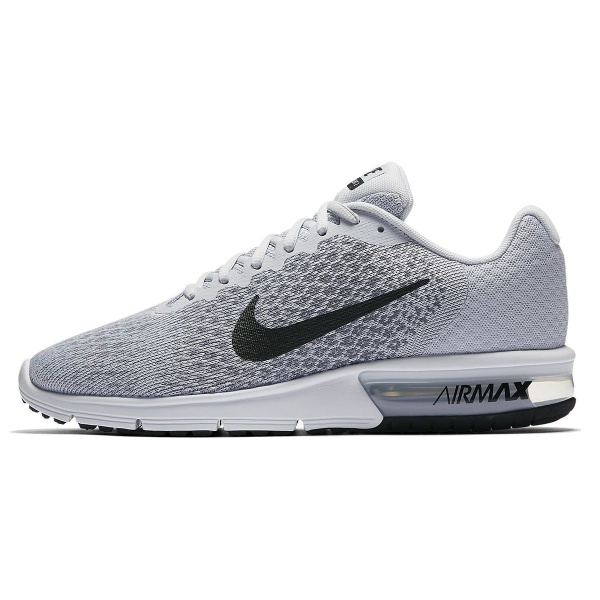nike: (228, 272, 436, 366)
